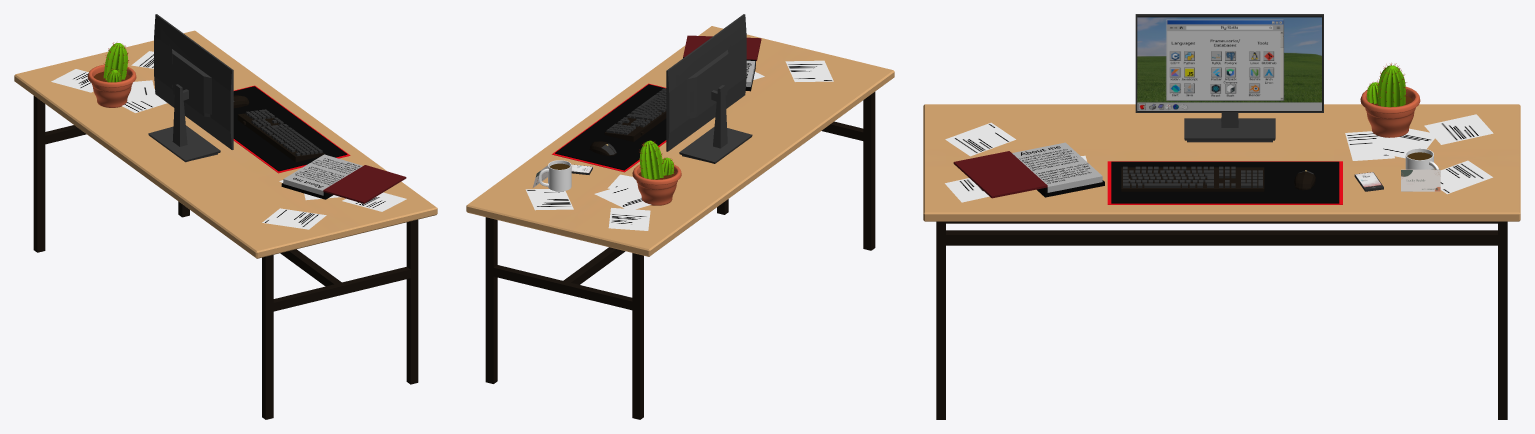
3 renders of one model, left to right at view 1: azimuth 30°, elevation 25°; view 2: azimuth 150°, elevation 25°; view 3: azimuth 270°, elevation 25°, orthographic. The views are drawn at different scales.
Visible parts, largest first — view 1: Desk, group_0_Material.001_0, Cube.006, PC_Keyboard, Cube.005, Paper, pages.001, Paper_Paper_0.001, SketchUp.001_Material.002_0, pot, SketchUp.003_Material.002_0, cactus_M_Cactus_Plant_0 (+2 smaller); view 2: Desk, group_0_Material.001_0, Cube.006, Paper, Paper_Paper_0.001, PC_Keyboard, SketchUp.001_Material.002_0, pot, cactus_M_Cactus_Plant_0, SketchUp.003_Material.002_0, Object_0.001, Cube.005 (+1 smaller); view 3: Desk, Plane.010, Cube.006, Paper, PC_Keyboard, Cube.005, pages.001, Paper_Paper_0.001, SketchUp.001_Material.002_0, pot, group_0_Material.001_0, Cube.007 (+4 smaller).
Part boxes in pixels (box(x1,y1,x2,y2)): Desk: box(14, 30, 437, 419); group_0_Material.001_0: box(154, 14, 233, 149); Cube.006: box(233, 86, 347, 171); PC_Keyboard: box(237, 109, 324, 162); Cube.005: box(323, 165, 406, 203); Paper: box(122, 51, 406, 211); pages.001: box(283, 154, 362, 195); Paper_Paper_0.001: box(51, 69, 340, 229); SketchUp.001_Material.002_0: box(148, 125, 220, 162); pot: box(87, 64, 136, 107); SketchUp.003_Material.002_0: box(172, 84, 188, 146); cactus_M_Cactus_Plant_0: box(103, 43, 127, 80); Desk: box(466, 26, 894, 419); group_0_Material.001_0: box(666, 14, 746, 151); Cube.006: box(555, 84, 666, 170); Paper: box(525, 174, 651, 210); Paper_Paper_0.001: box(608, 60, 833, 230); PC_Keyboard: box(604, 88, 666, 141); SketchUp.001_Material.002_0: box(679, 126, 752, 163); pot: box(632, 164, 681, 205); cactus_M_Cactus_Plant_0: box(639, 140, 664, 179); SketchUp.003_Material.002_0: box(711, 85, 727, 148); Object_0.001: box(538, 160, 571, 191); Cube.005: box(683, 35, 761, 60); Desk: box(923, 104, 1520, 419); Plane.010: box(1137, 17, 1321, 110); Cube.006: box(1111, 161, 1339, 203); Paper: box(945, 128, 1492, 202); PC_Keyboard: box(1121, 166, 1264, 191); Cube.005: box(953, 151, 1047, 198); pages.001: box(1012, 142, 1102, 192); Paper_Paper_0.001: box(945, 114, 1493, 161); SketchUp.001_Material.002_0: box(1184, 118, 1275, 142); pot: box(1360, 86, 1420, 137); group_0_Material.001_0: box(1135, 14, 1323, 112); Cube.007: box(1107, 161, 1342, 204).
Size of what is drawn, in the model's own units: 2.35 by 3.44 by 5.44.
28 materials, 9 textured.
